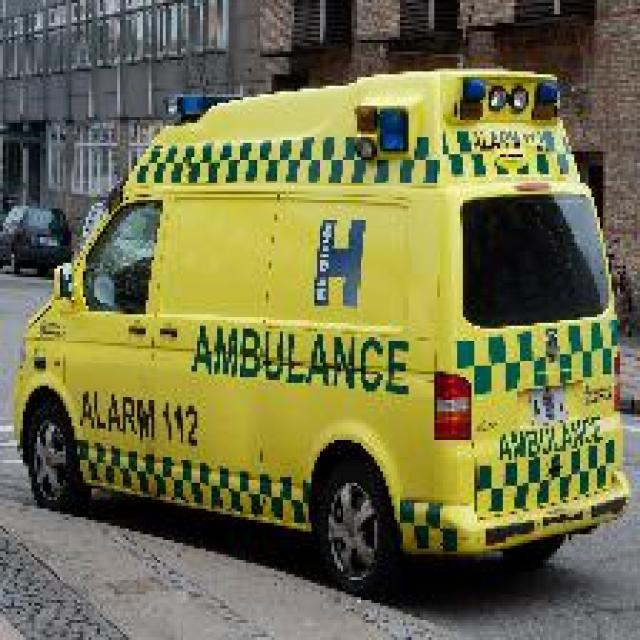Ambulance: (9, 63, 632, 597)
